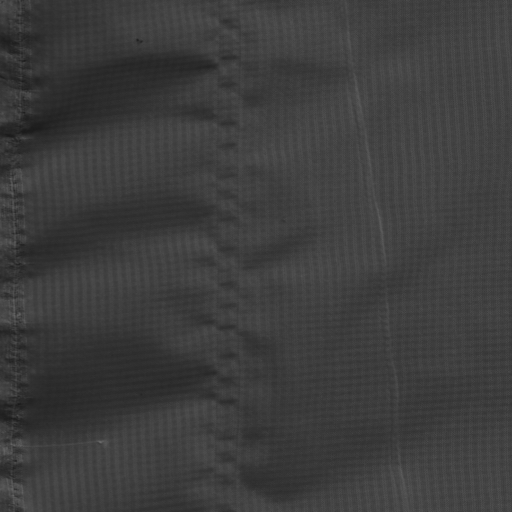defect: (231, 2, 248, 512), (211, 2, 223, 512)
